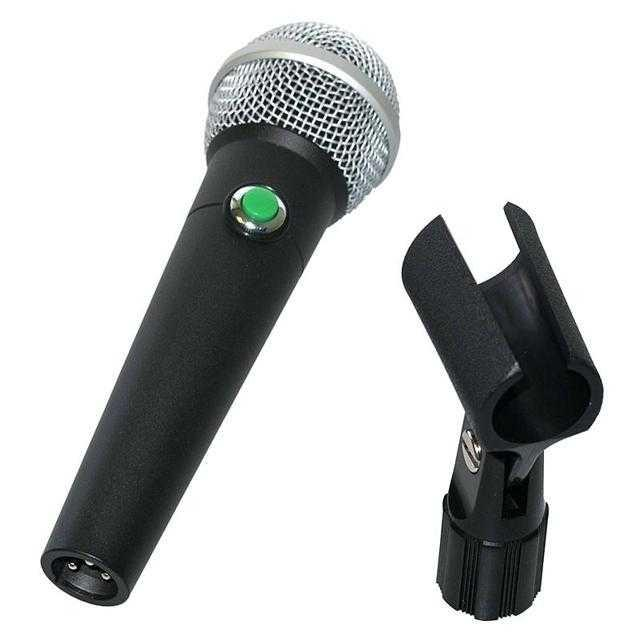microphone: (154, 6, 402, 474)
